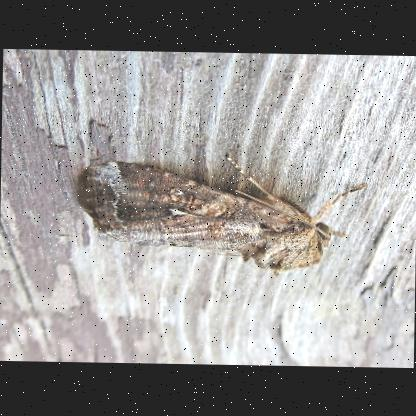Fall Armyworm Moth: (77, 151, 369, 282)
